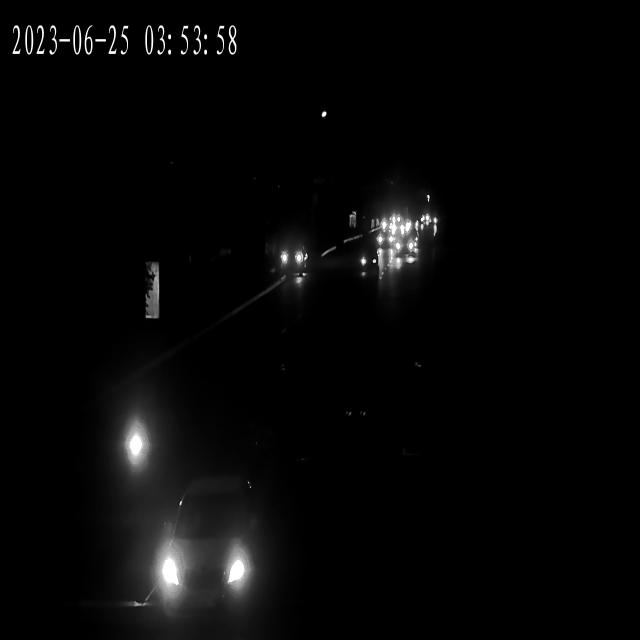Car: (140, 489, 262, 620), (109, 386, 163, 483), (277, 242, 309, 272), (395, 234, 420, 258), (391, 237, 417, 260), (356, 246, 378, 270), (375, 231, 396, 250), (390, 218, 410, 234), (374, 216, 394, 231), (377, 218, 396, 233), (421, 212, 439, 226), (407, 218, 424, 232)
